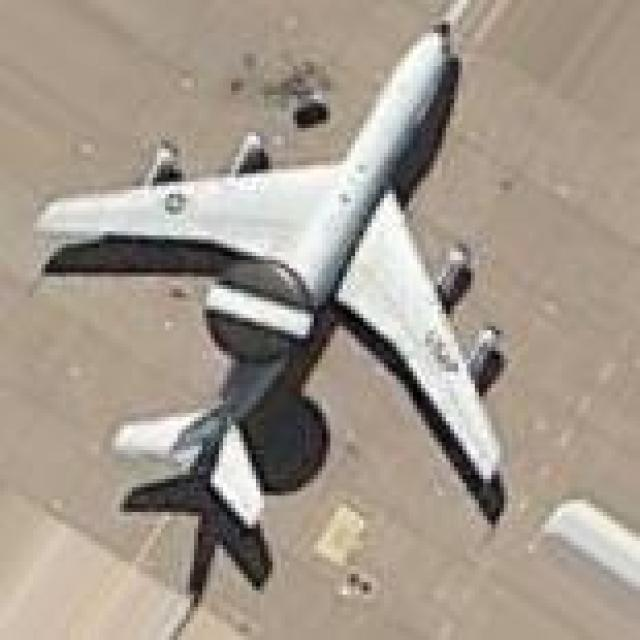E-3_TopDown: (21, 12, 516, 599)
